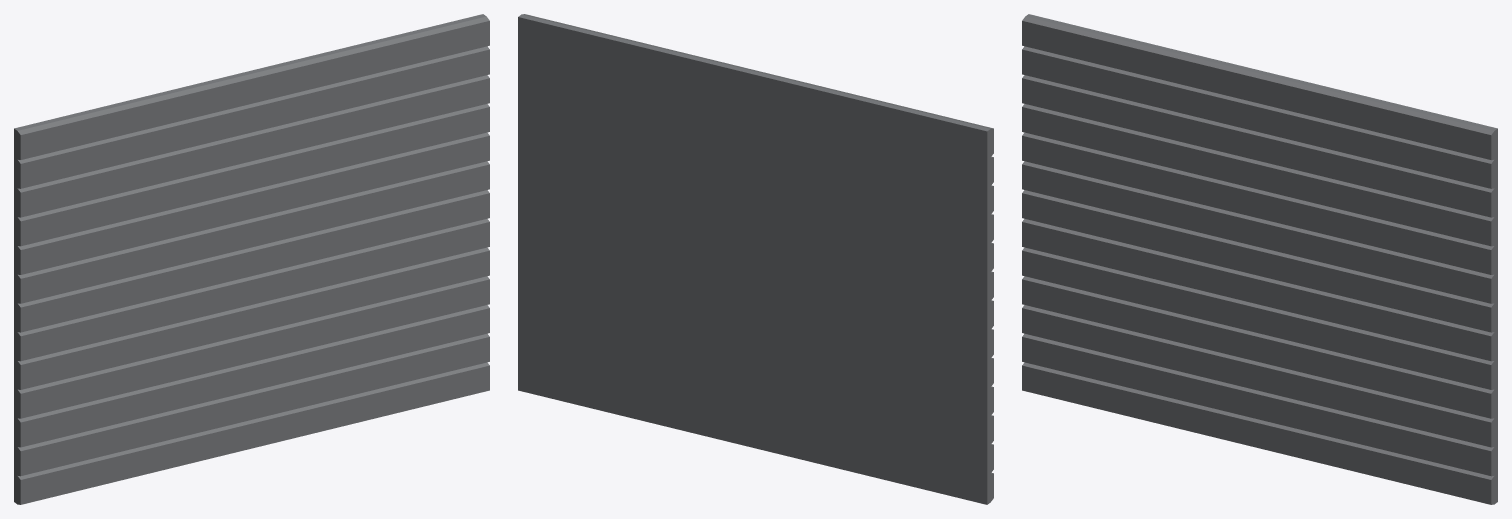
File: SM_garagedoor.fbx
The picture shows the model from 3 angles, left to right: view 1: azimuth 30°, elevation 25°; view 2: azimuth 150°, elevation 25°; view 3: azimuth 330°, elevation 25°; orthographic projection.
Visible parts, largest first — view 1: Box058; view 2: Box058; view 3: Box058.
Part boxes in pixels (x1,y1,x2,y2): Box058: (14,14,489,504); Box058: (518,14,993,504); Box058: (1022,14,1497,504).
Bounding box in the file's own units: 149 × 3.66 × 113.
